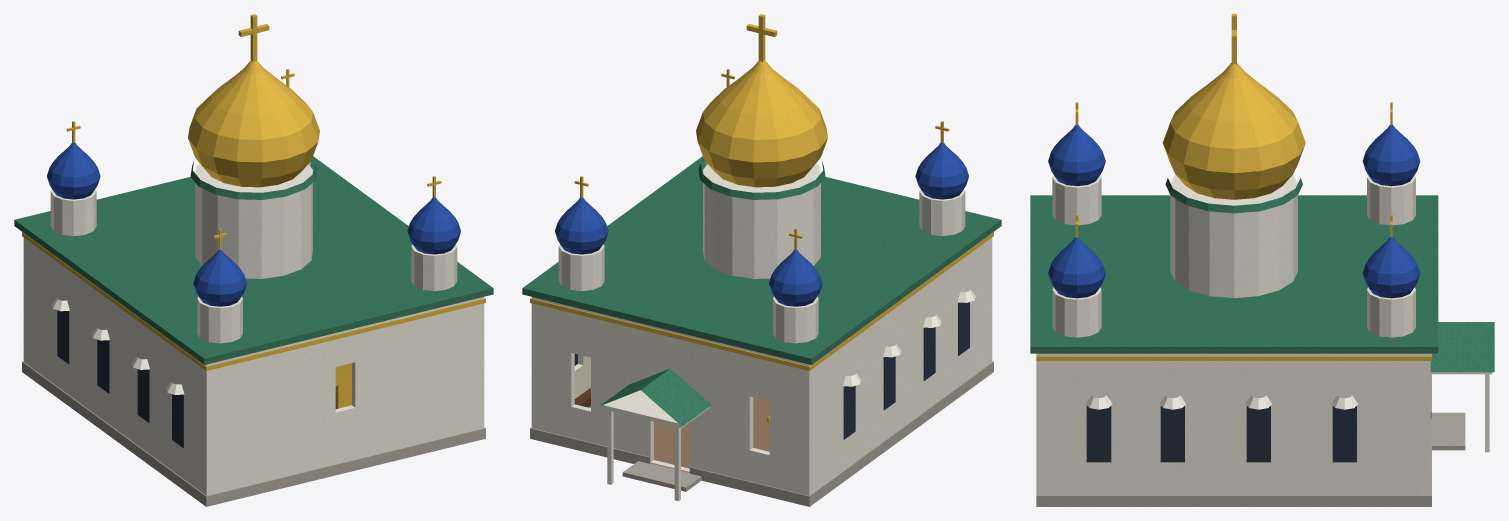
Rendered from church_orthodox.glb.
3 views of the same model, side by side, from view 1: azimuth 30°, elevation 25°; view 2: azimuth 150°, elevation 25°; view 3: azimuth 270°, elevation 25° (orthographic). The views are drawn at different scales.
Visible parts, largest first — view 1: church_orthodox; view 2: church_orthodox; view 3: church_orthodox.
Boxes of the visible parts, x1=… form: church_orthodox: x1=14, y1=14, x2=493, y2=506; church_orthodox: x1=522, y1=14, x2=1001, y2=506; church_orthodox: x1=1030, y1=14, x2=1494, y2=506.
Size of the model in its own units: 15.1 by 18.8 by 18.9.
10 materials, 10 textured.
